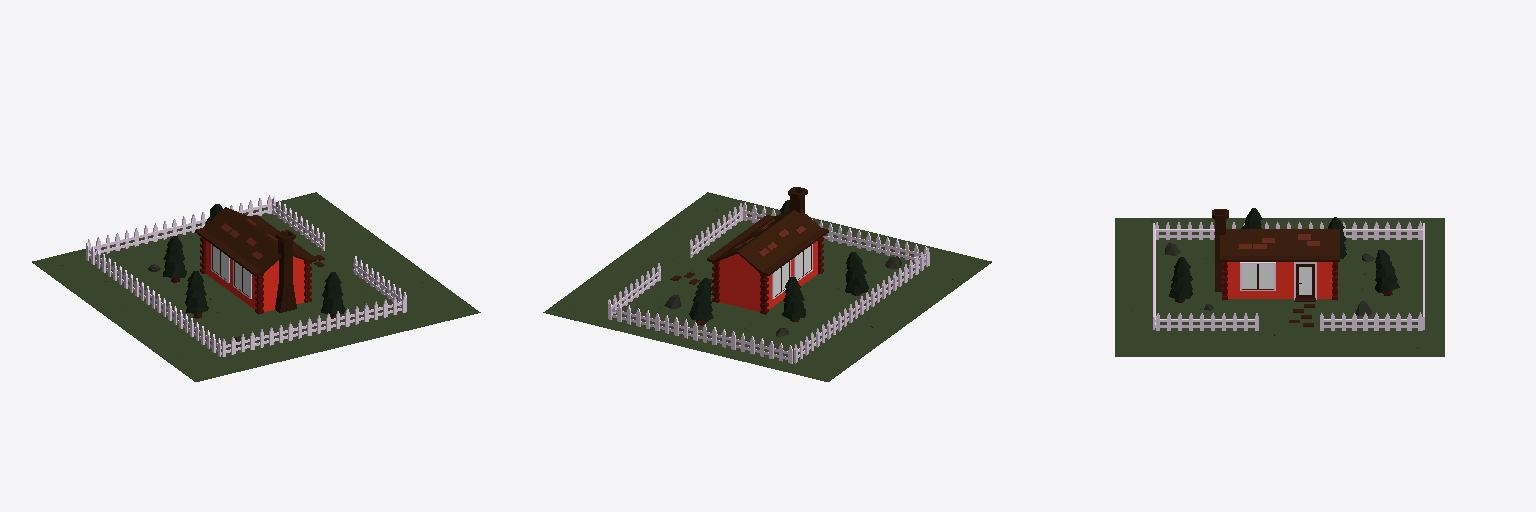
The model's file is house1.obj.
3 views of the same model, side by side, from view 1: azimuth 30°, elevation 25°; view 2: azimuth 150°, elevation 25°; view 3: azimuth 270°, elevation 25° (orthographic).
Parts seen in each view (by area): view 1: Plane, houseframe_Cube, fence.002_Cube.034, fence.003_Cube.036, fence.004_Cube.037, chimney_Cube.001, spruce3_Cylinder.007, spruce4_Cylinder.008, spruce2_Cylinder.006, fence.001_Cube.033, fence.009_Cube.032, frame1_Cube.002; view 2: Plane, houseframe_Cube, fence.004_Cube.037, fence.003_Cube.036, fence.002_Cube.034, spruce_Cylinder, spruce4_Cylinder.008, spruce3_Cylinder.007, fence.009_Cube.032, fence.001_Cube.033, frame2_Cube.003; view 3: Plane, houseframe_Cube, fence.003_Cube.036, fence.001_Cube.033, fence.009_Cube.032, window_Cube.006, door_knob, spruce_Cylinder, spruce2_Cylinder.006, chimney_Cube.001.
Part boxes in pixels (x1,y1,x2,y2): Plane: (32, 192, 480, 381); houseframe_Cube: (195, 207, 316, 311); fence.002_Cube.034: (222, 294, 406, 356); fence.003_Cube.036: (86, 242, 221, 356); fence.004_Cube.037: (88, 195, 271, 255); chimney_Cube.001: (275, 230, 296, 312); spruce3_Cylinder.007: (185, 271, 208, 318); spruce4_Cylinder.008: (163, 236, 186, 282); spruce2_Cylinder.006: (321, 272, 345, 318); fence.001_Cube.033: (272, 196, 324, 250); fence.009_Cube.032: (353, 256, 406, 306); frame1_Cube.002: (255, 261, 311, 314); Plane: (543, 192, 991, 381); houseframe_Cube: (707, 210, 828, 311); fence.004_Cube.037: (608, 301, 792, 363); fence.003_Cube.036: (794, 248, 929, 363); fence.002_Cube.034: (743, 202, 926, 262); spruce_Cylinder: (689, 278, 713, 325); spruce4_Cylinder.008: (782, 277, 805, 321); spruce3_Cylinder.007: (845, 252, 868, 295); fence.009_Cube.032: (690, 203, 742, 257); fence.001_Cube.033: (608, 263, 660, 313); frame2_Cube.003: (712, 261, 768, 314); Plane: (1115, 218, 1444, 356); houseframe_Cube: (1220, 229, 1339, 298); fence.003_Cube.036: (1155, 221, 1422, 239); fence.001_Cube.033: (1320, 312, 1422, 330); fence.009_Cube.032: (1156, 313, 1258, 330); window_Cube.006: (1240, 262, 1275, 290); door_knob: (1294, 262, 1316, 301); spruce_Cylinder: (1375, 250, 1399, 295); spruce2_Cylinder.006: (1169, 257, 1192, 302); chimney_Cube.001: (1212, 209, 1228, 291).
Size of the model in its own units: 60 by 17.45 by 60.